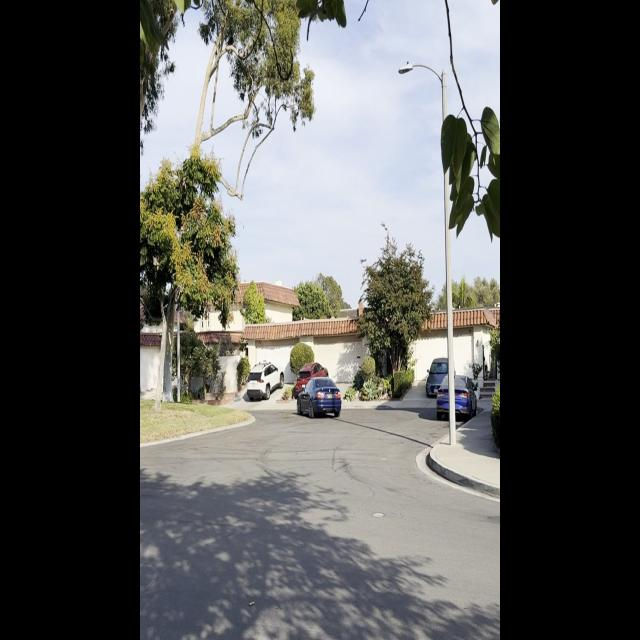Carbeetle: (293, 370, 345, 423)
Civilian: (436, 374, 478, 422), (427, 357, 463, 397), (245, 366, 283, 402), (293, 362, 327, 399), (435, 388, 448, 418), (429, 358, 449, 370), (426, 375, 436, 397)
